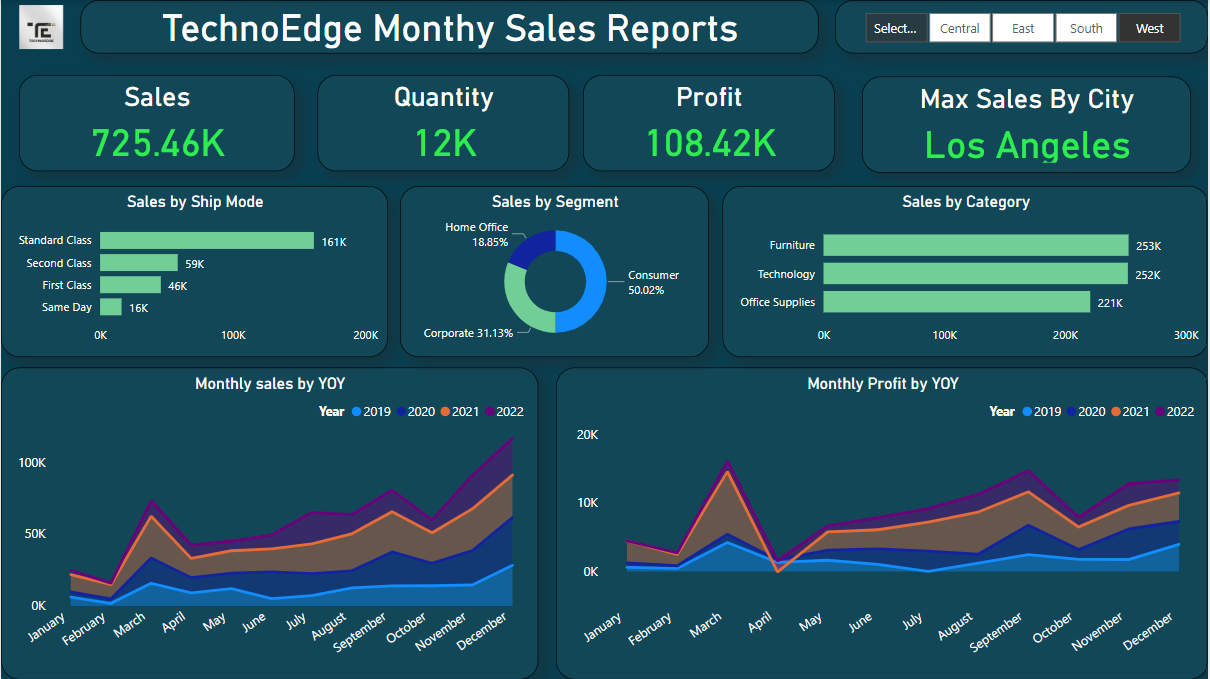

What the dashboard file says about the page in this screenshot:
{"tool":"powerbi","page":{"name":"Report -1 ","canvas":[1280,720],"ordinal":0},"visuals":[{"type":"barChart","title":"Sales by Category","fields":{"Category":["TechnoEdge Monthy Sales Data.Category"],"Y":["Sum(TechnoEdge Monthy Sales Data.Sales)"]},"box":[764.5,197.1,515,181.2],"z":0},{"type":"barChart","title":"Sales by Ship Mode","fields":{"Y":["Sum(TechnoEdge Monthy Sales Data.Sales)"],"Category":["TechnoEdge Monthy Sales Data.Ship Mode"]},"box":[0,197.1,410.1,181.2],"z":1000},{"type":"stackedAreaChart","title":"Monthly sales by YOY","fields":{"Category":["TechnoEdge Monthy Sales Data.Order Date.Variation.Date Hierarchy.Month"],"Y":["Sum(TechnoEdge Monthy Sales Data.Sales)"],"Series":["TechnoEdge Monthy Sales Data.Order Date.Variation.Date Hierarchy.Year"]},"box":[0,389.4,569,330.6],"z":2000},{"type":"stackedAreaChart","title":"Monthly Profit by YOY","fields":{"Category":["TechnoEdge Monthy Sales Data.Order Date.Variation.Date Hierarchy.Month"],"Series":["TechnoEdge Monthy Sales Data.Order Date.Variation.Date Hierarchy.Year"],"Y":["Sum(TechnoEdge Monthy Sales Data.Profit)"]},"box":[588.1,389.4,691.4,330.6],"z":3000},{"type":"donutChart","title":"Sales by Segment","fields":{"Category":["TechnoEdge Monthy Sales Data.Segment"],"Y":["Sum(TechnoEdge Monthy Sales Data.Sales)"]},"box":[422.8,197.1,327.4,181.2],"z":4000},{"type":"textbox","title":"TechnoEdge Monthy Sales Reports","box":[85,0,781.7,56.7],"z":5000},{"type":"image","box":[0,0,85,56.7],"z":6000},{"type":"card","title":"Sales","fields":{"Values":["Sum(TechnoEdge Monthy Sales Data.Sales)"]},"box":[18.3,80,291.7,101.7],"z":7000},{"type":"card","title":"Quantity","fields":{"Values":["Sum(TechnoEdge Monthy Sales Data.Quantity)"]},"box":[335,80,266.7,101.7],"z":8000},{"type":"card","title":"Profit","fields":{"Values":["Sum(TechnoEdge Monthy Sales Data.Profit)"]},"box":[616.7,80,266.7,101.7],"z":9000},{"type":"card","title":"Max Sales By City","fields":{"Values":["Min(TechnoEdge Monthy Sales Data.City)"]},"box":[911.7,81.7,348.3,101.7],"z":10000},{"type":"slicer","fields":{"Values":["TechnoEdge Monthy Sales Data.Region"]},"box":[883.3,0,396.7,56.7],"z":11000}]}

Visuals, with their boxes in screenshot pixels (x1, y1, x2, y2), scaled from the page's 1280x720 canvas onto the 1210x679 screenshot:
"Sales by Category" barChart: (left=723, top=186, right=1209, bottom=357)
"Sales by Ship Mode" barChart: (left=0, top=186, right=388, bottom=357)
"Monthly sales by YOY" stackedAreaChart: (left=0, top=367, right=538, bottom=678)
"Monthly Profit by YOY" stackedAreaChart: (left=556, top=367, right=1209, bottom=678)
"Sales by Segment" donutChart: (left=400, top=186, right=709, bottom=357)
"TechnoEdge Monthy Sales Reports" textbox: (left=80, top=0, right=819, bottom=53)
image: (left=0, top=0, right=80, bottom=53)
"Sales" card: (left=17, top=75, right=293, bottom=171)
"Quantity" card: (left=317, top=75, right=569, bottom=171)
"Profit" card: (left=583, top=75, right=835, bottom=171)
"Max Sales By City" card: (left=862, top=77, right=1191, bottom=173)
slicer - TechnoEdge Monthy Sales Data.Region: (left=835, top=0, right=1209, bottom=53)
